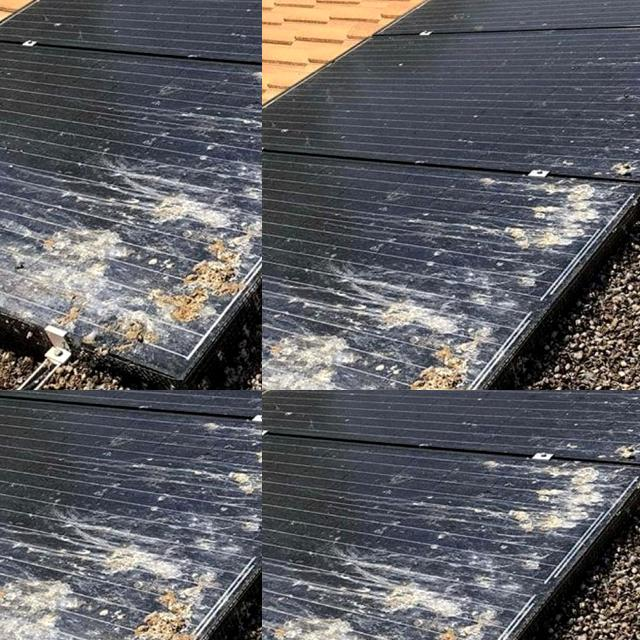bird: (506, 430, 600, 541), (379, 582, 514, 640), (262, 559, 313, 640), (262, 607, 362, 640), (262, 401, 290, 468), (617, 412, 640, 472)
dust: (0, 187, 129, 279), (129, 201, 262, 254), (110, 106, 173, 192), (181, 121, 262, 173), (182, 63, 236, 94)
panel: (36, 390, 141, 415), (0, 390, 38, 458), (143, 390, 232, 417), (142, 390, 262, 408), (0, 390, 29, 452), (0, 458, 47, 495), (97, 390, 210, 403), (82, 390, 133, 417), (175, 390, 219, 416), (0, 390, 85, 400), (0, 390, 22, 424), (0, 390, 66, 400), (215, 390, 262, 403), (0, 390, 33, 408), (0, 390, 52, 399)
shadow: (360, 96, 427, 177)
